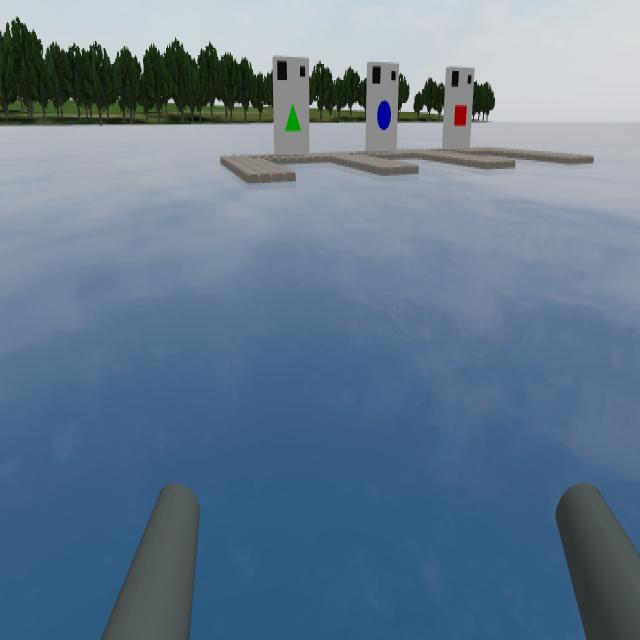dock: (276, 57, 310, 159), (368, 65, 398, 152), (444, 65, 472, 149)
